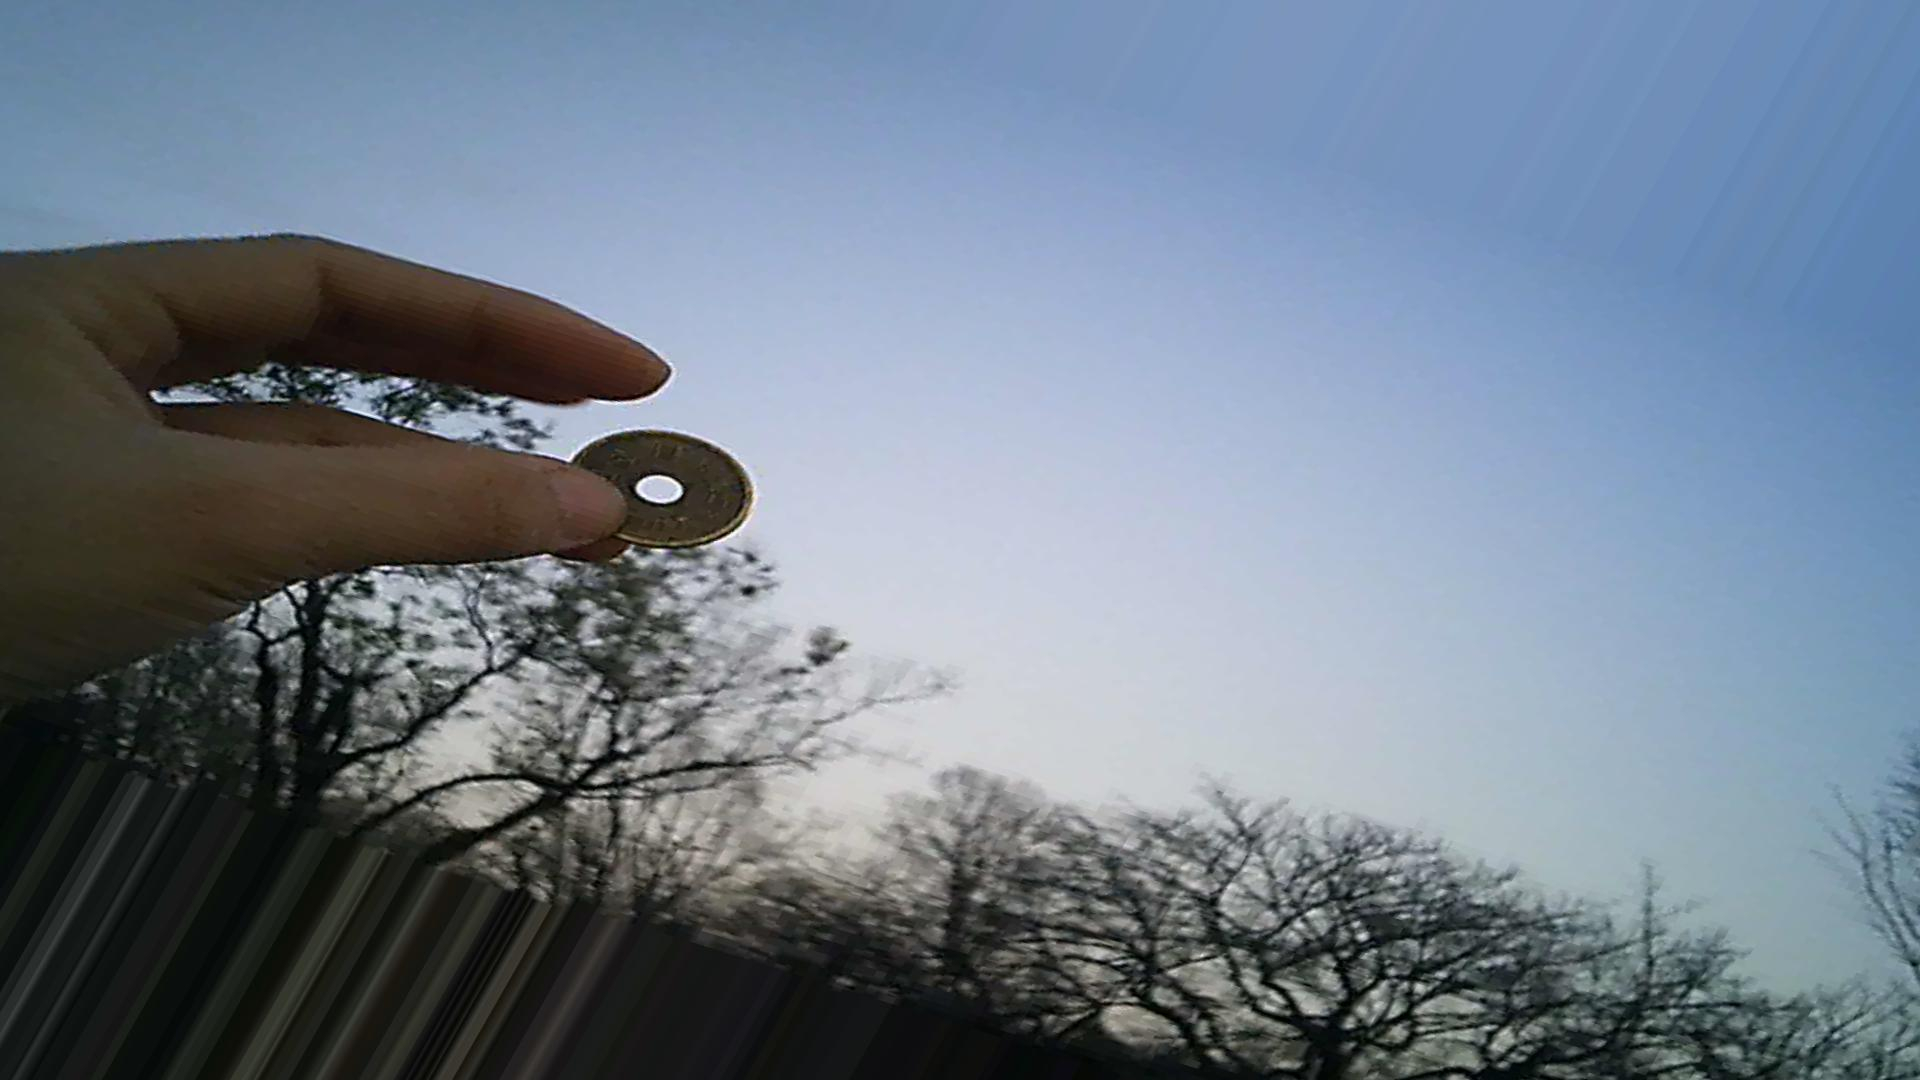5 Yen: (562, 404, 750, 560)
